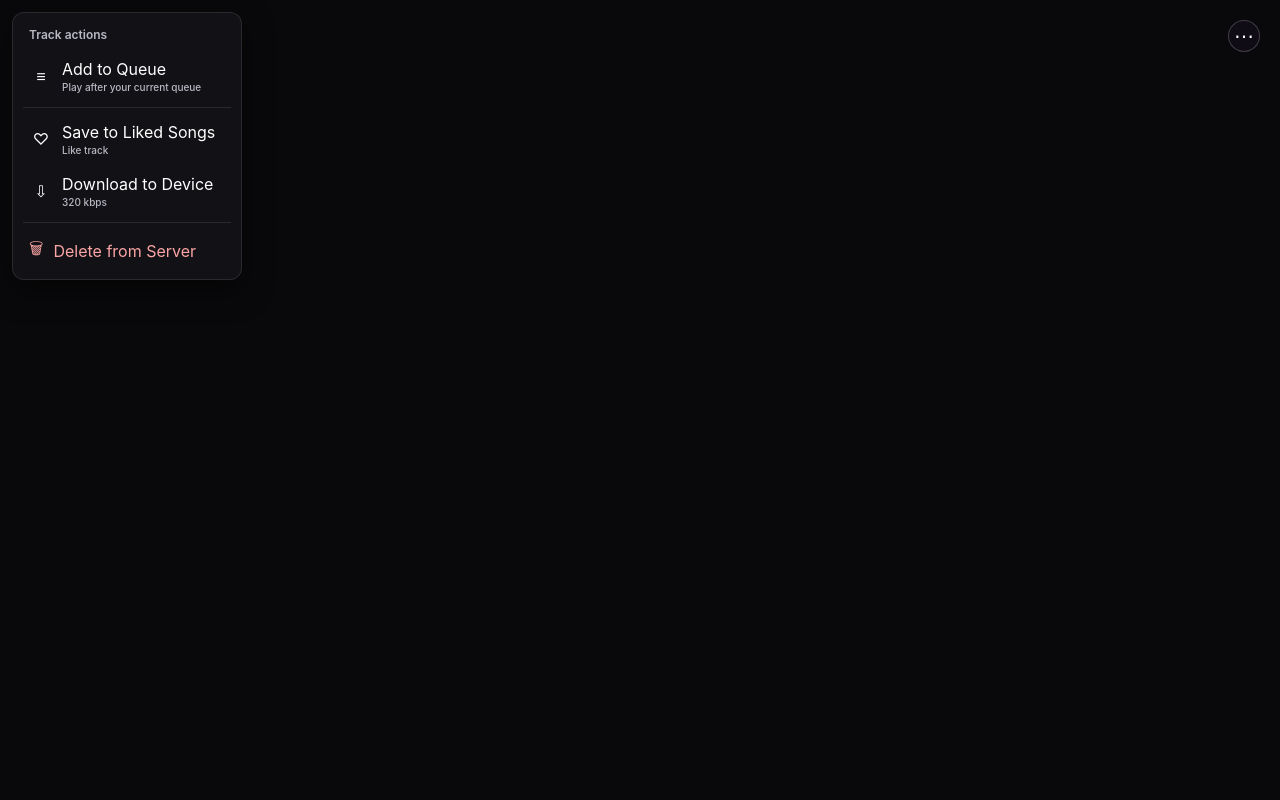
Test: track deletion requires confirmation and reports success
Step 1. Click the menu item "🗑 Delete from Server" → coordinates (127, 250), box [19,228,235,273]
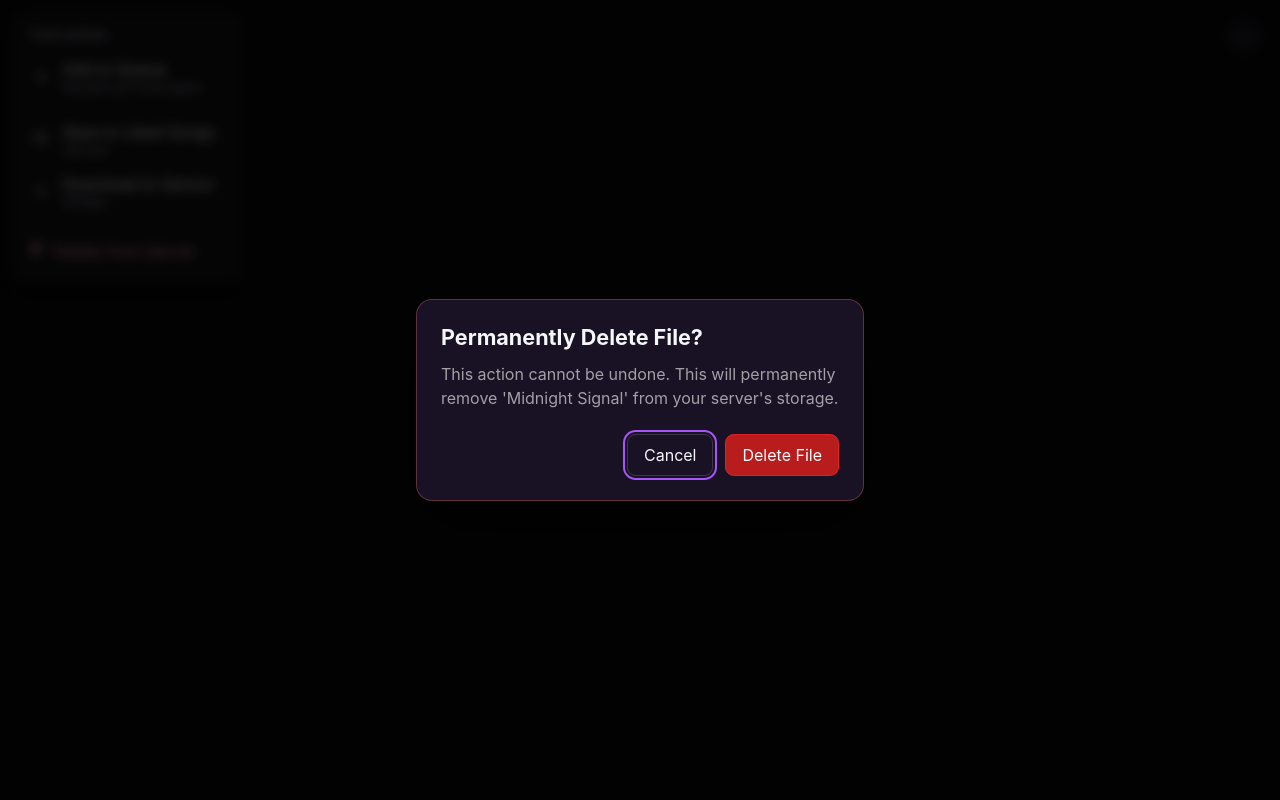
Check: the dialog "Permanently Delete File?" shows "Midnight Signal", box [507,388,623,408]
Step 2. Click the button "Cancel" → coordinates (670, 455), box [627,434,714,476]
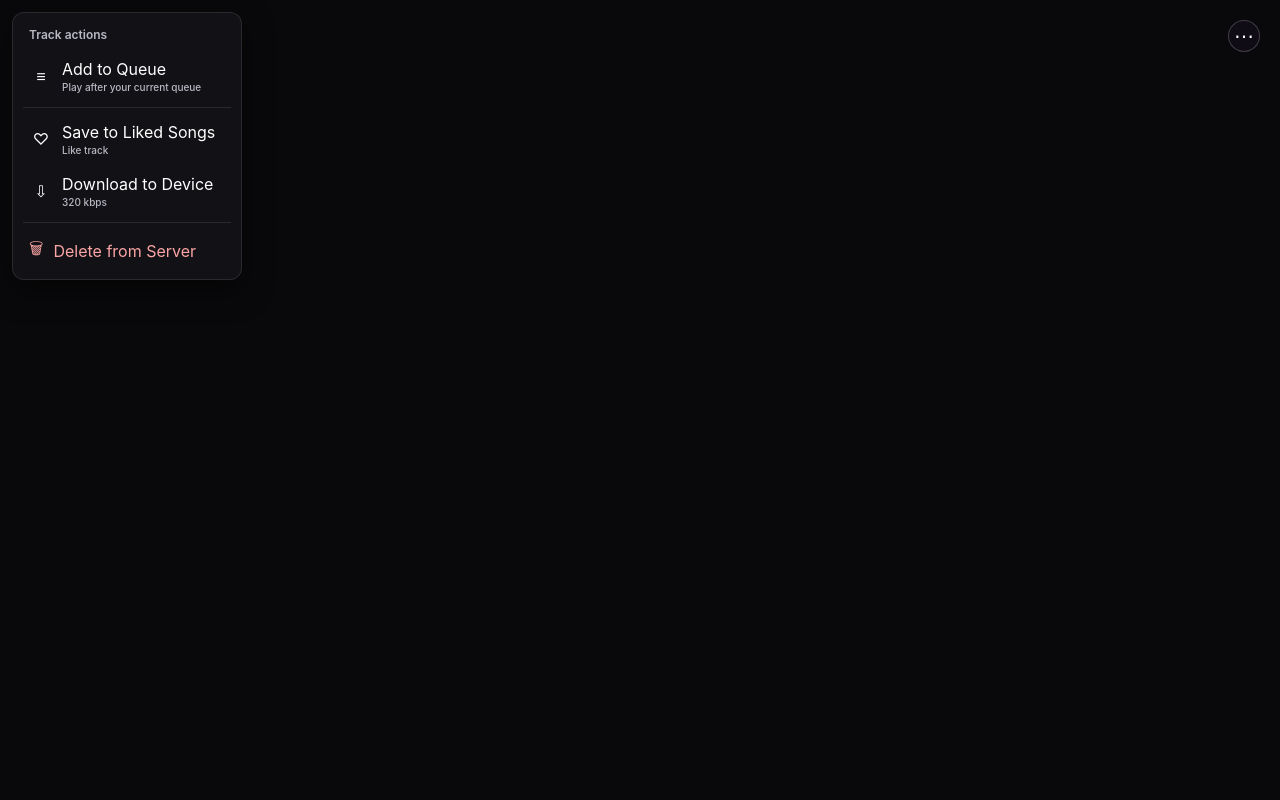
Step 3. Click the menu item "🗑 Delete from Server" → coordinates (127, 250), box [19,228,235,273]
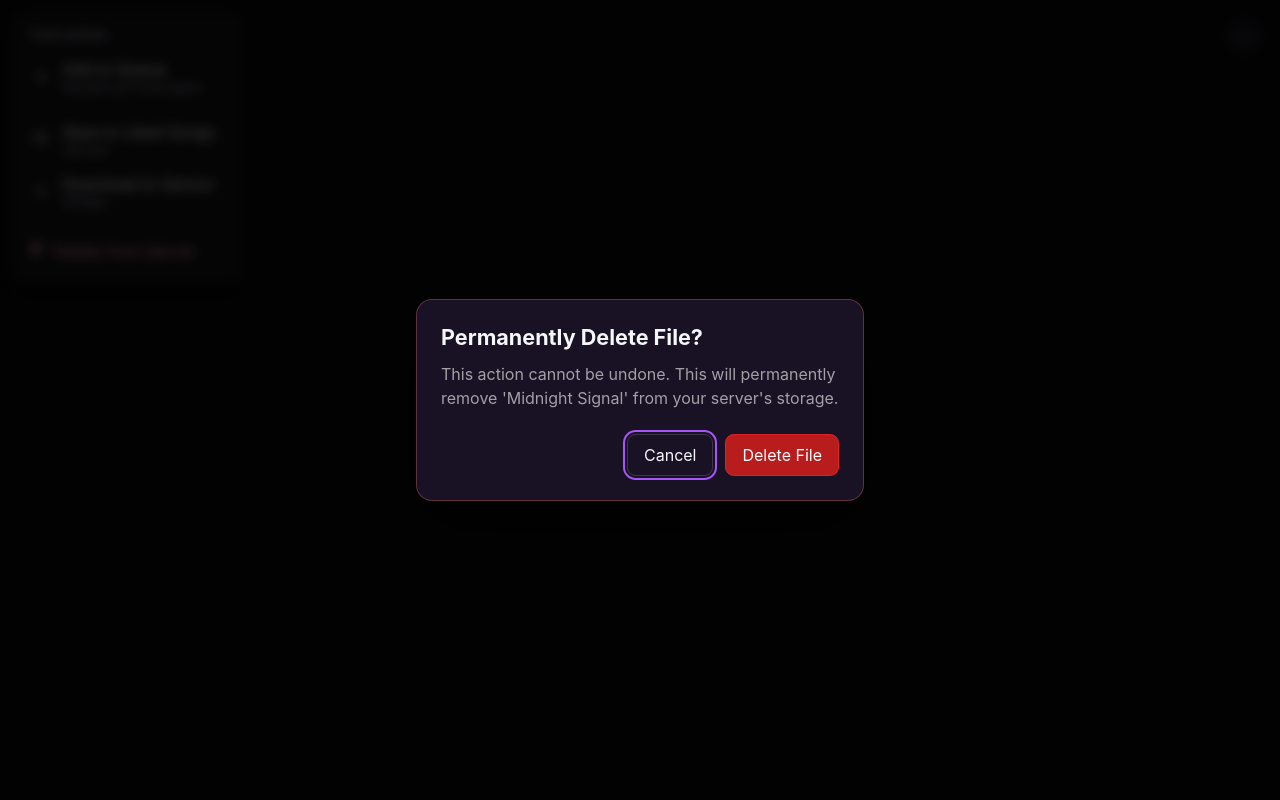
Step 4. Click the button "Delete File" → coordinates (782, 455), box [726,434,839,476]
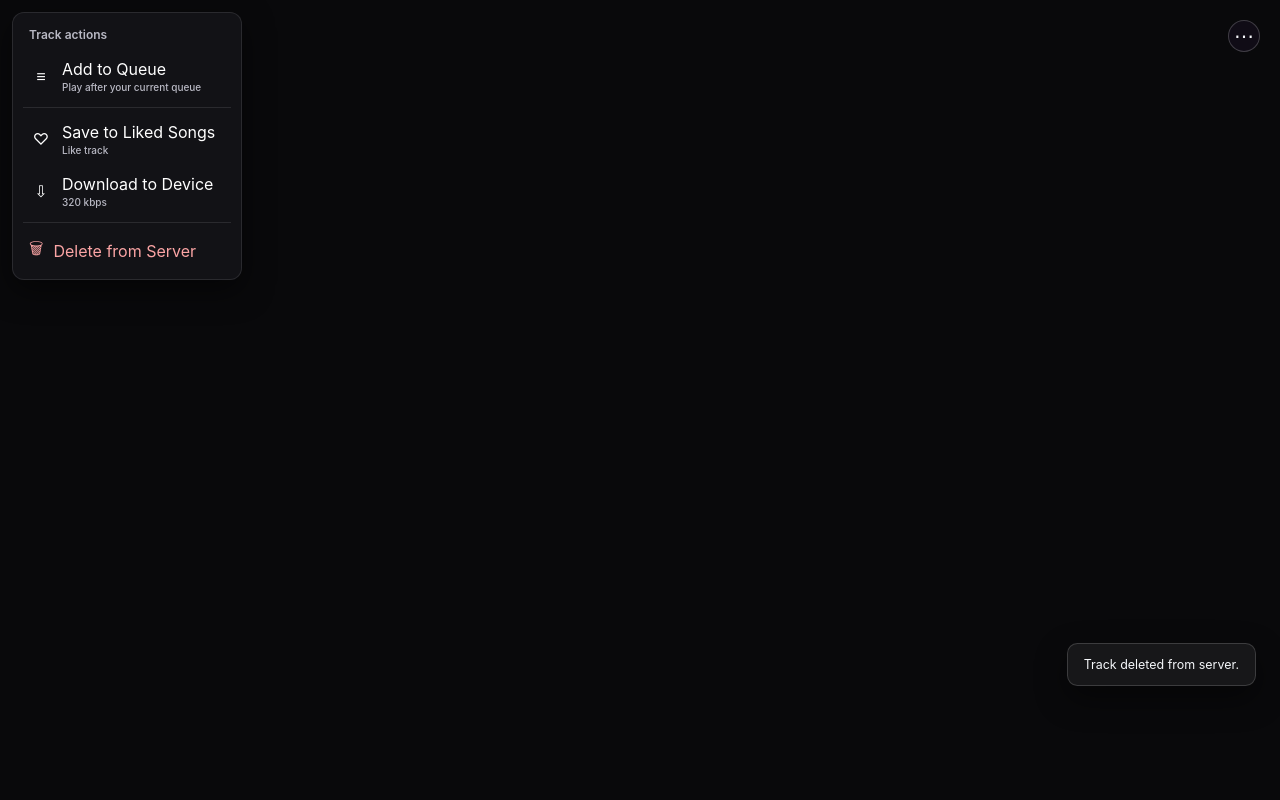
Check: the message reads "Track deleted from server.", box [1084,656,1239,672]
